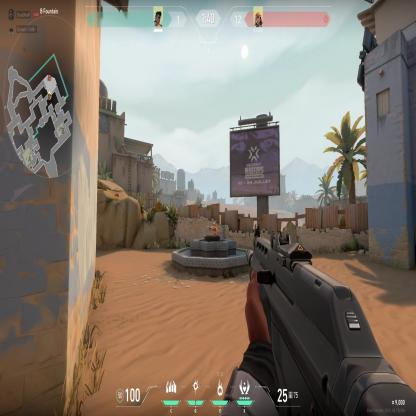enemy: (209, 221, 218, 235)
